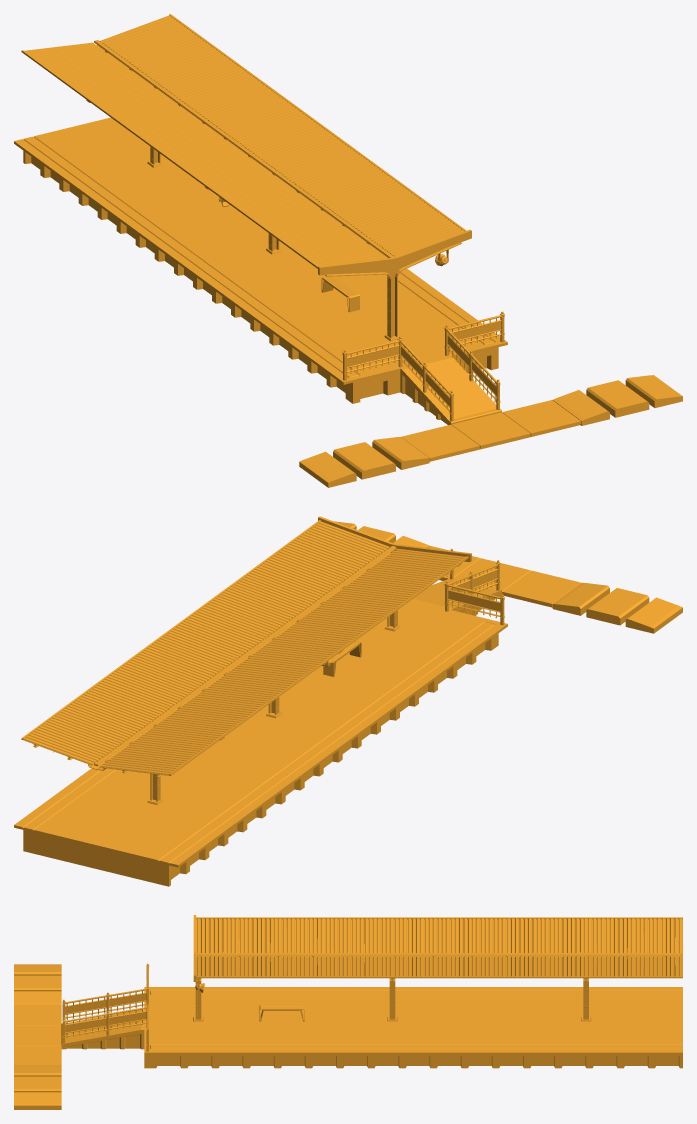
File: SM_Train_Platform_A.fbx
3 renders of one model, top to bottom at view 1: azimuth 30°, elevation 25°; view 2: azimuth 150°, elevation 25°; view 3: azimuth 270°, elevation 25°, orthographic. The views are drawn at different scales.
Parts seen in each view (by area): view 1: SM_Train_Platform_A; view 2: SM_Train_Platform_A; view 3: SM_Train_Platform_A.
Part boxes in pixels (left/top/right/bottom): SM_Train_Platform_A: left=14, top=14, right=682, bottom=487; SM_Train_Platform_A: left=14, top=516, right=682, bottom=886; SM_Train_Platform_A: left=14, top=915, right=682, bottom=1109.
Bounding box in the file's own units: 14 × 4.33 × 28.
